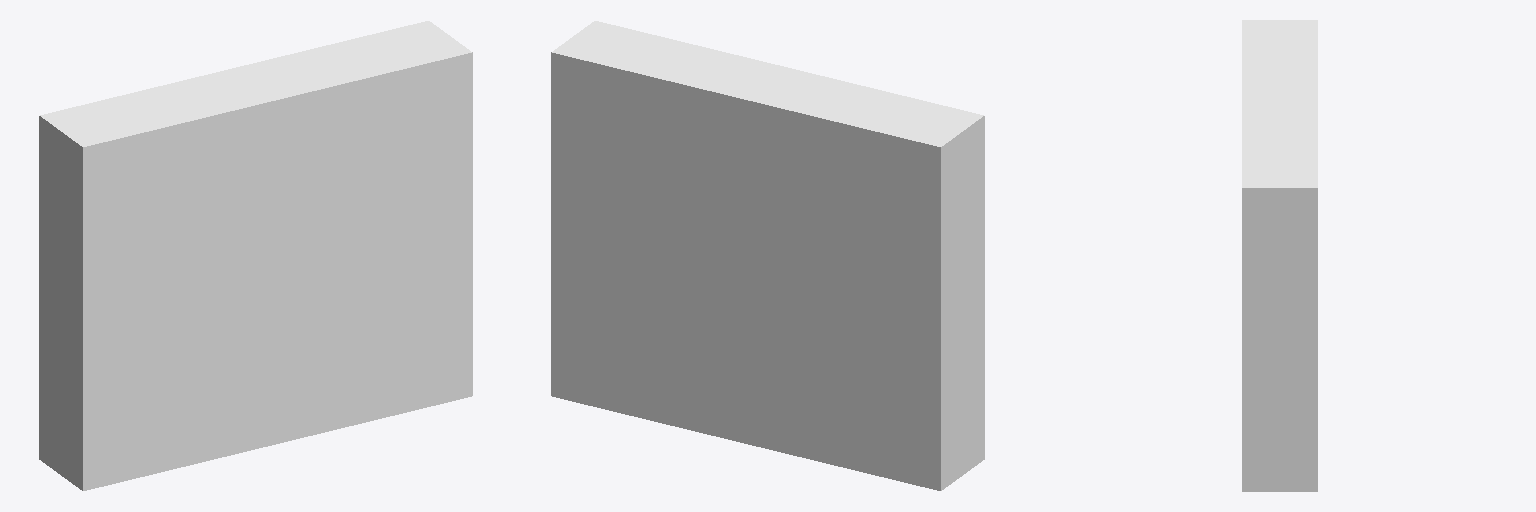
URDF robot description (pellet):
<?xml version="1.0" ?>
<robot name="pellet">
  <link name="baseLink">
    <contact>
      <lateral_friction value="1.0"/>
      <rolling_friction value="0.0"/>
      <contact_cfm value="0.0"/>
      <contact_erp value="1.0"/>
    </contact>
    <inertial>
      <origin rpy="0 0 0" xyz="0 0 0"/>
       <mass value="1"/>
       <inertia ixx="1" ixy="0" ixz="0" iyy="1" iyz="0" izz="1"/>
    </inertial>
    <visual>
      <origin rpy="0 0 0" xyz="0 0 0"/>
      <geometry>
		    <mesh filename="pellet.obj" scale="1 1 1"/>
      </geometry>
      <material name="white">
        <color rgba="1 1 1 1"/>
      </material>
    </visual>
    <collision>
      <origin rpy="0 0 0" xyz="0 0 0"/>
      <geometry>
	      <mesh filename="pellet.obj" scale="1 1 1"/>
      </geometry>
    </collision>
  </link>
</robot>

--- What the picture shows (computed from the rendered views, not written in the file) ---
Views: 3 orthographic renders of the robot side by side, from view 1: azimuth 30°, elevation 25°; view 2: azimuth 150°, elevation 25°; view 3: azimuth 270°, elevation 25°.
Model pellet with 1 links and 0 joints (none), rooted at baseLink, posed all joints at 0.
Visible links, largest first — view 1: baseLink; view 2: baseLink; view 3: baseLink.
Boxes of the visible links, x1,y1,x2,y2 form: baseLink: [39, 21, 472, 490]; baseLink: [551, 21, 984, 490]; baseLink: [1242, 20, 1317, 491].
Bounding box of the posed robot: 0.7304 × 0.1417 × 0.6163 m (x, y, z).
1 mesh visuals loaded from 1 distinct referenced files (1 OBJ).
